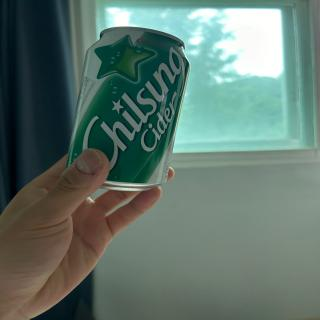cocacola: (64, 25, 190, 194)
